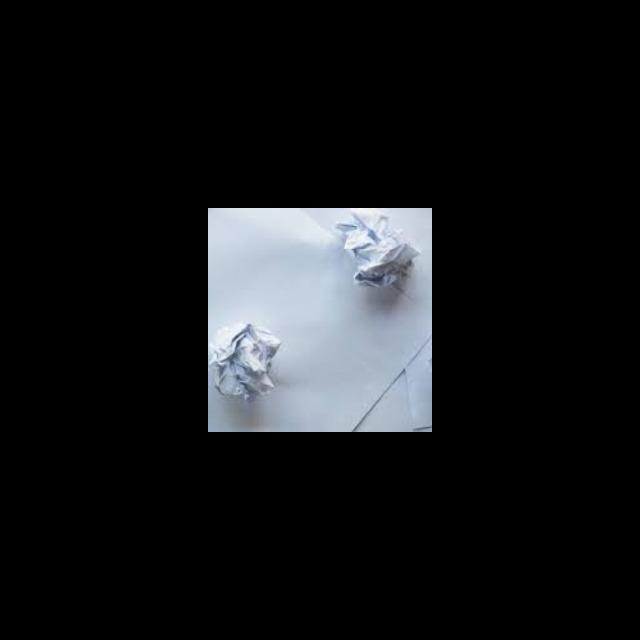paper: (208, 318, 290, 416), (332, 210, 417, 300)
